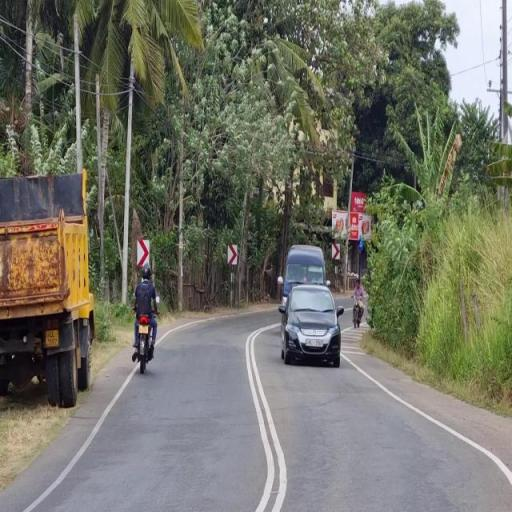double_white_line: (243, 325, 288, 511)
